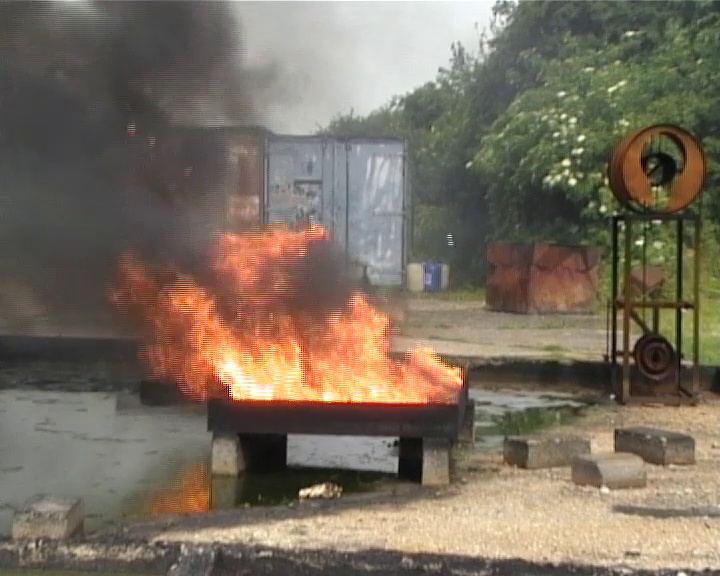fire: (155, 234, 458, 400)
